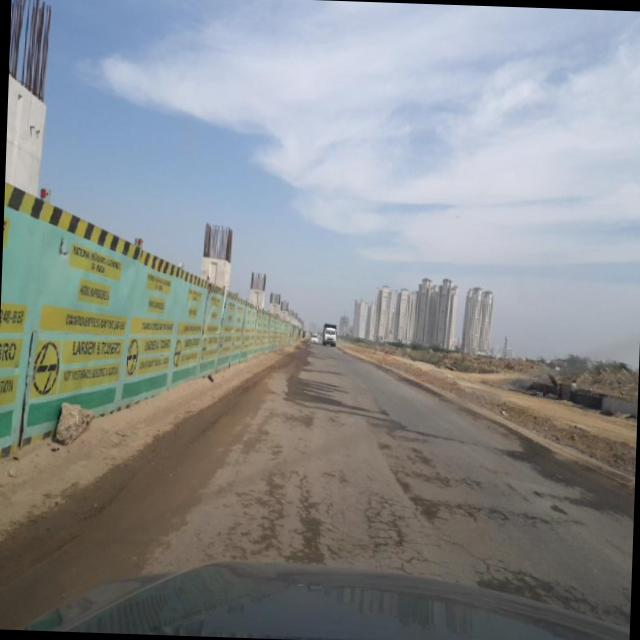crack: (182, 462, 408, 570), (464, 540, 632, 608), (412, 468, 540, 522)
